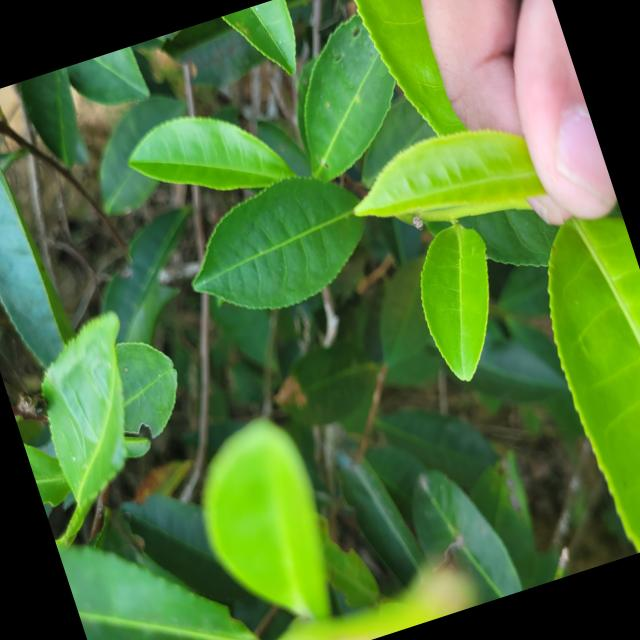Catagory A(1-2 days): (321, 61, 564, 286)
